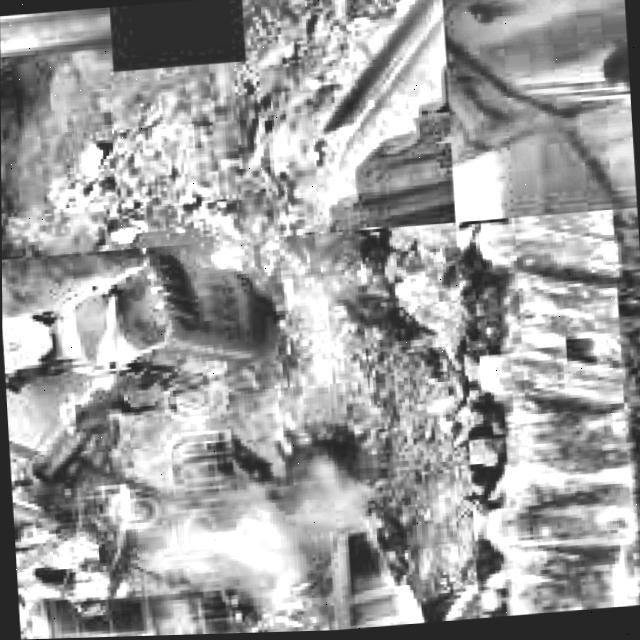buldozerpayloadergrader: (455, 211, 640, 621)
dump_truck: (221, 510, 476, 635)
excavator: (1, 111, 135, 257)
